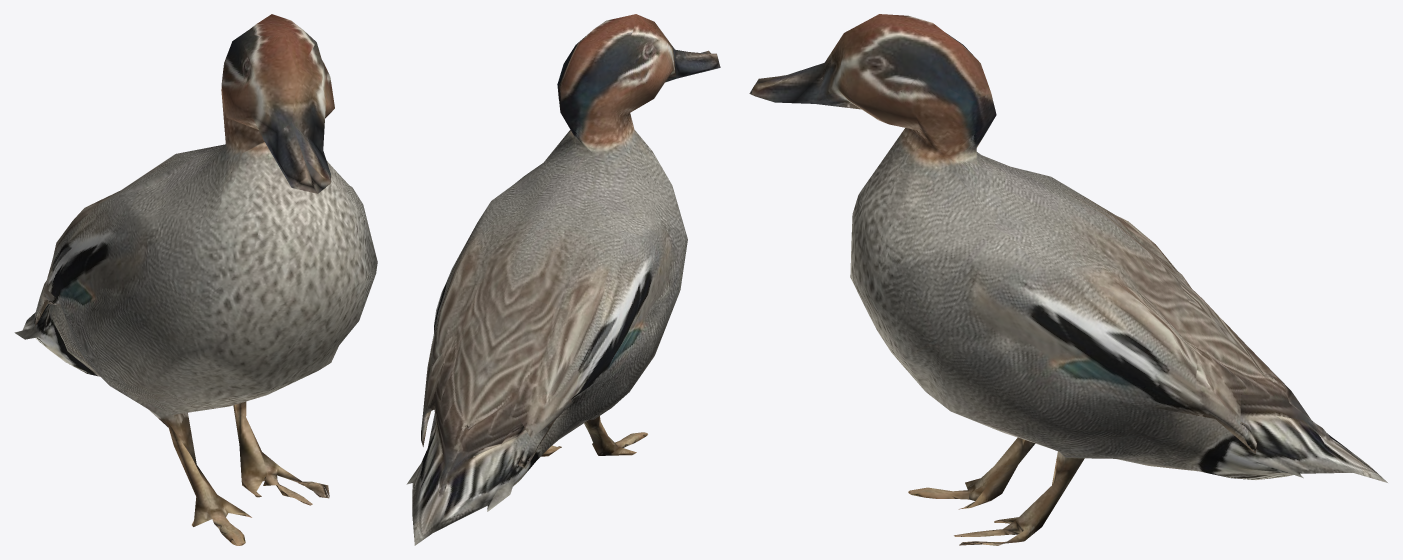
The model's file is teal-flock.glb.
The picture shows the model from 3 angles, left to right: view 1: azimuth 30°, elevation 25°; view 2: azimuth 150°, elevation 25°; view 3: azimuth 270°, elevation 25°; orthographic projection. The views are drawn at different scales.
Visible parts, largest first — view 1: teal-flock; view 2: teal-flock; view 3: teal-flock.
Part boxes in pixels (left/top/right/bottom): teal-flock: left=14, top=14, right=377, bottom=545; teal-flock: left=406, top=14, right=720, bottom=545; teal-flock: left=749, top=14, right=1387, bottom=545.
Size of the model in its own units: 0.7736 by 1.6 by 1.89.
1 material, 1 textured.
